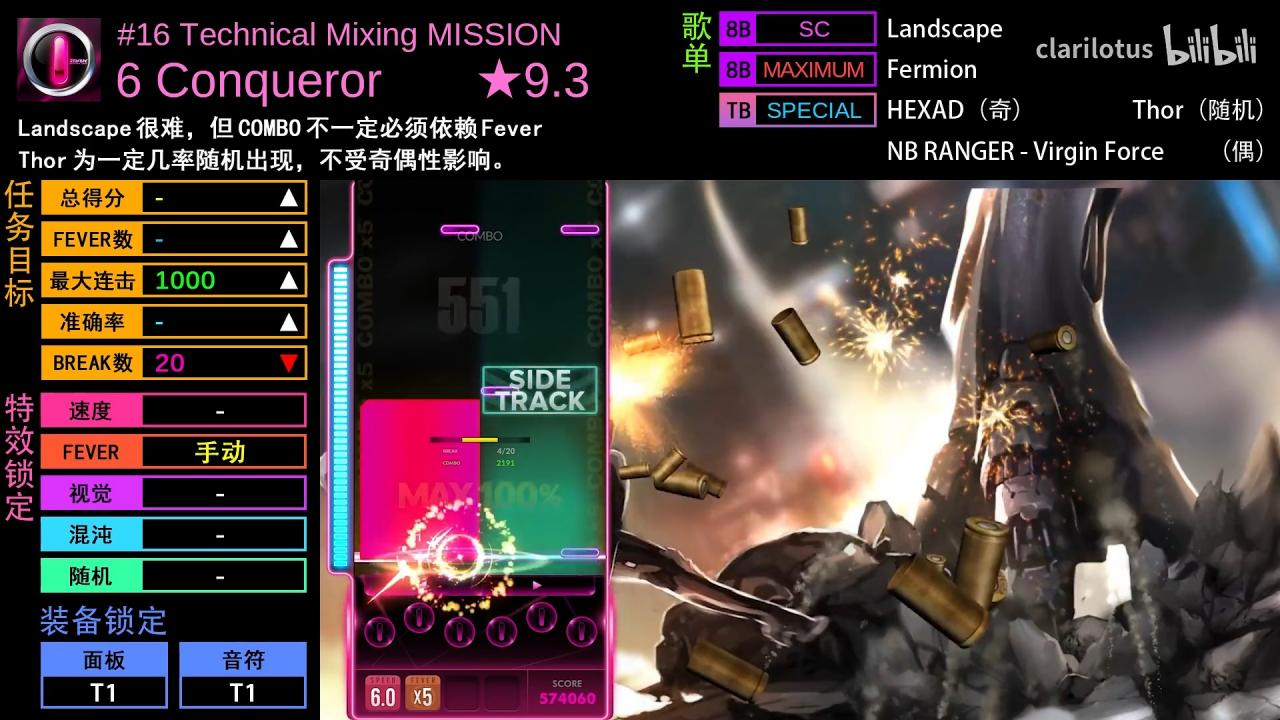note: (560, 548, 600, 559), (561, 224, 600, 235), (440, 224, 480, 234)
xend: (359, 398, 481, 411)
